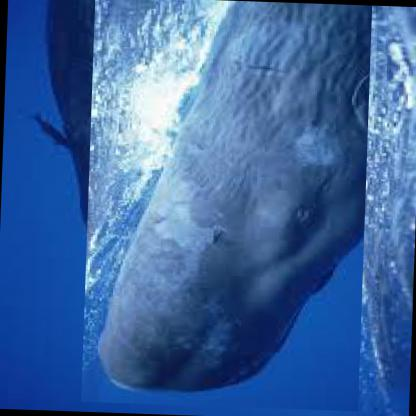sperm_whale: (78, 0, 371, 413)
